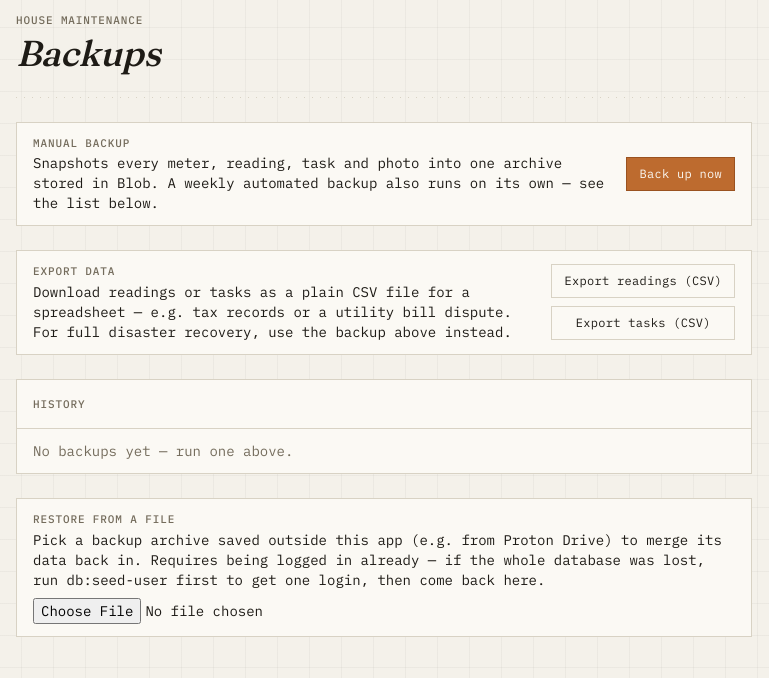
Scenario: Backups › shows the run error and keeps the previous list when a manual backup fails
Expected: the text "No backups yet — run one above." is shown, x1=33 y1=442 x2=293 y2=460
Click the button "Back up now".
click(681, 174)  # box x1=626 y1=157 x2=735 y2=191
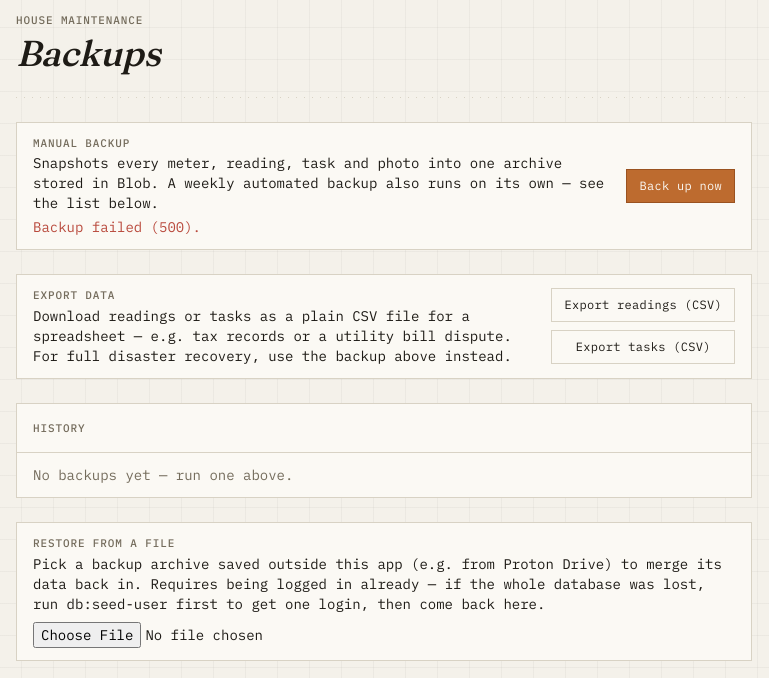
Expected: the text "Backup failed (500)." is shown, x1=33 y1=218 x2=201 y2=236
